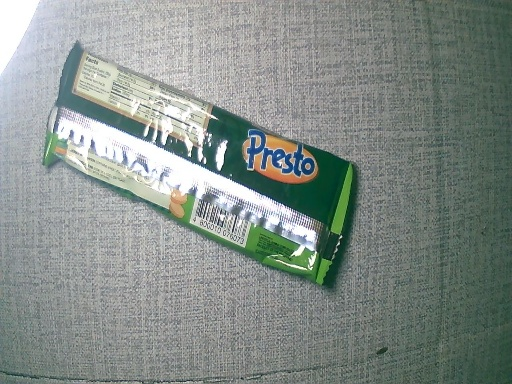plastic: (37, 39, 358, 286)
